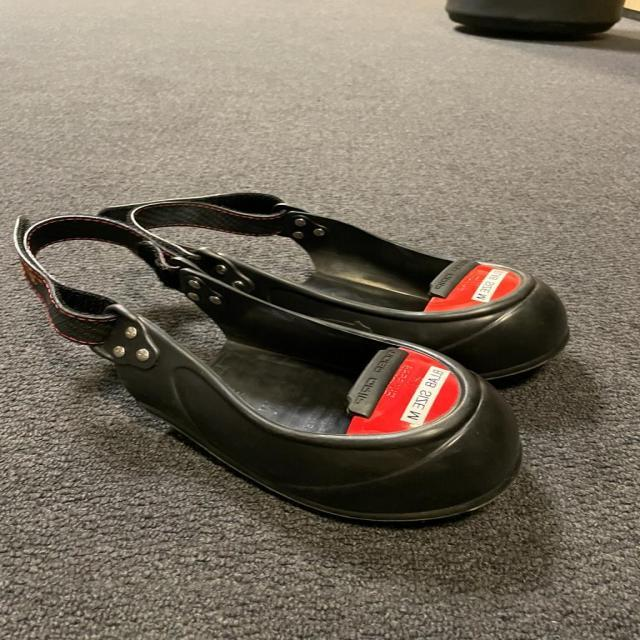shoes: (12, 210, 518, 536), (108, 166, 574, 395)
